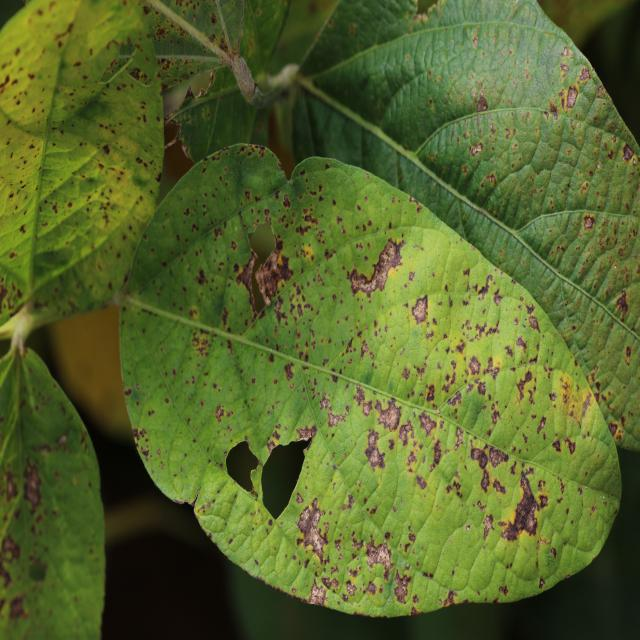Bacterial_Blight: (344, 234, 410, 300), (498, 472, 543, 543), (252, 238, 293, 309), (296, 502, 327, 563), (363, 428, 388, 471), (22, 461, 43, 511), (365, 541, 393, 572), (375, 400, 402, 432), (515, 368, 536, 401), (1, 531, 21, 565), (190, 330, 211, 358), (417, 411, 437, 439), (8, 593, 27, 621), (473, 273, 493, 299), (393, 573, 410, 603), (470, 445, 489, 471), (614, 288, 630, 317), (488, 445, 508, 468), (327, 406, 346, 429), (295, 425, 315, 445), (29, 559, 47, 581), (482, 514, 495, 540), (565, 85, 579, 109), (6, 474, 18, 501), (467, 355, 481, 376), (621, 143, 635, 162), (582, 214, 596, 231), (283, 362, 295, 381), (476, 95, 489, 112), (469, 142, 483, 157), (578, 66, 591, 82), (415, 473, 427, 490), (129, 67, 143, 81), (196, 269, 207, 286), (608, 421, 619, 437), (214, 405, 225, 421), (365, 581, 377, 595), (477, 380, 487, 396), (57, 434, 68, 448), (549, 108, 559, 121), (625, 345, 632, 359), (102, 144, 110, 155)
Soybean: (120, 145, 621, 617)
